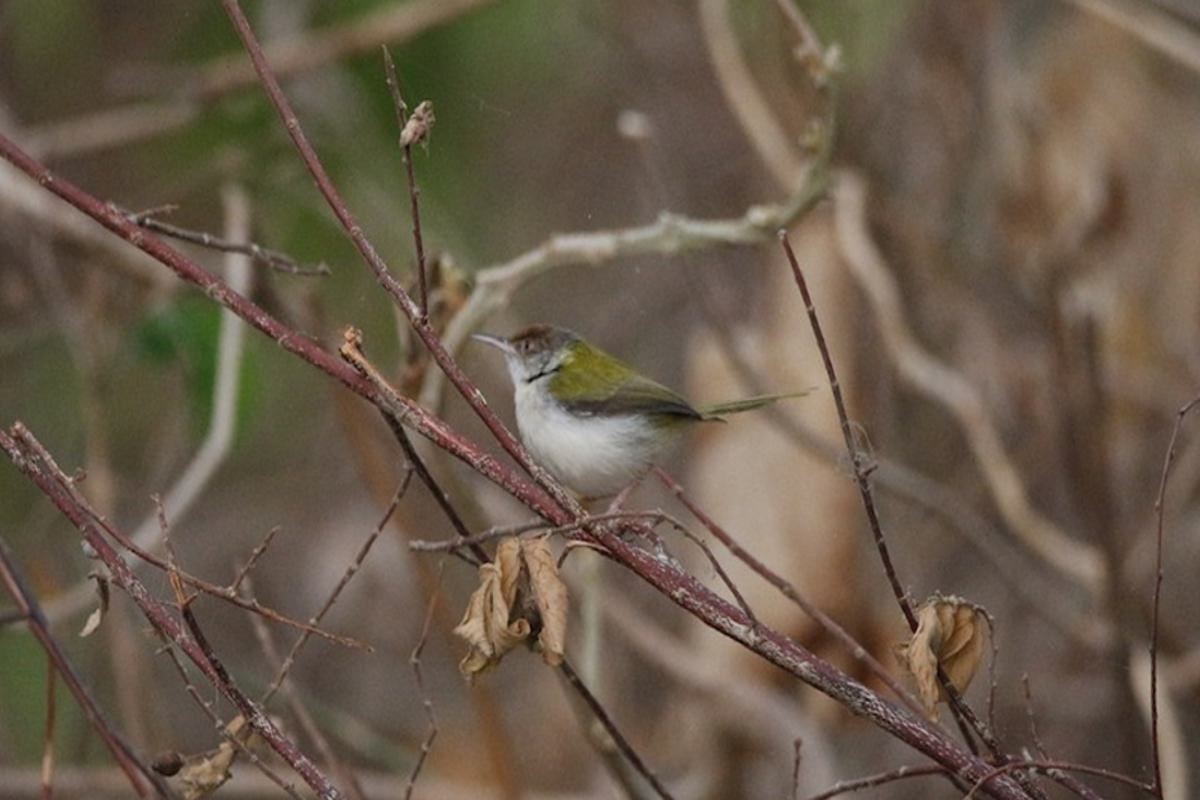tailorbird: (479, 298, 834, 554)
